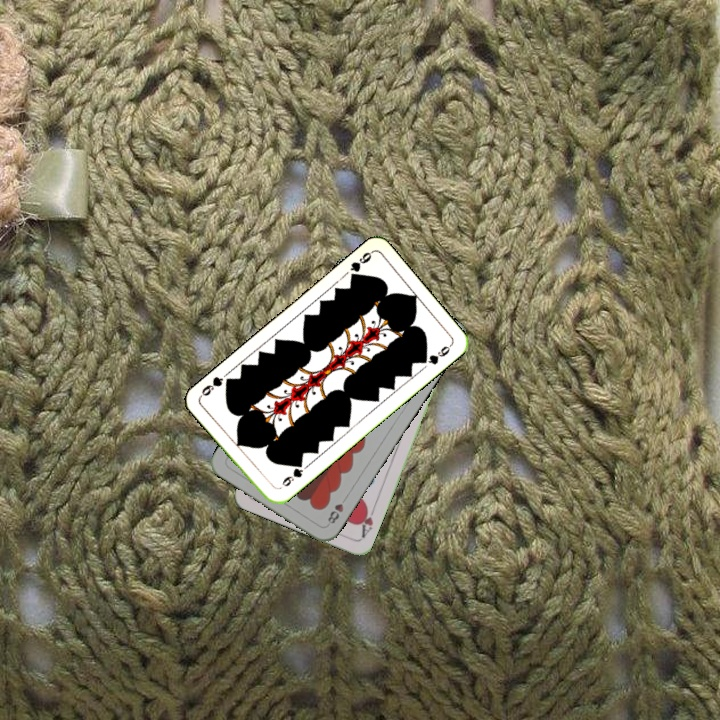G9: (346, 247, 375, 283), (278, 458, 306, 489)
H8: (324, 499, 346, 526)
HA: (355, 502, 378, 541)
